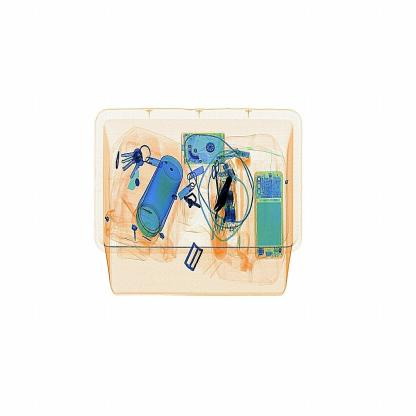knife: (212, 159, 244, 221)
